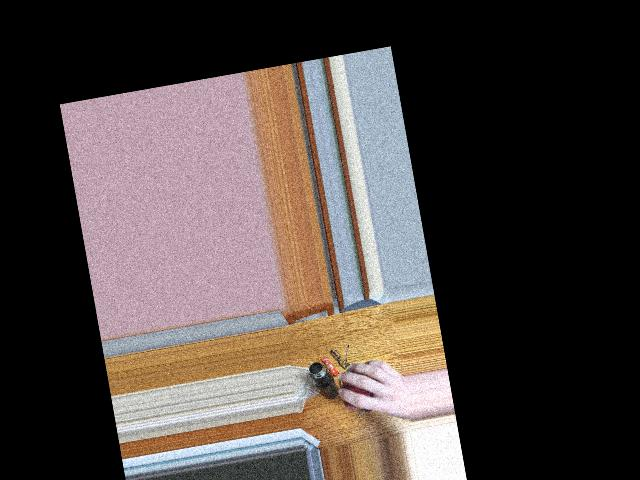onion: (343, 361, 382, 411)
